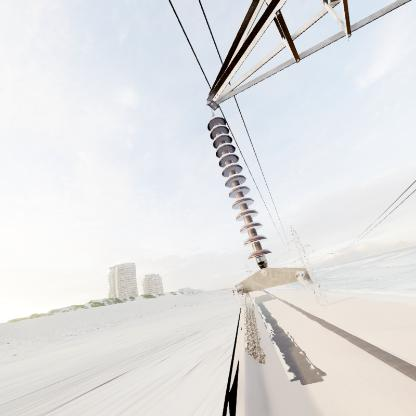insulator: (203, 115, 272, 272)
